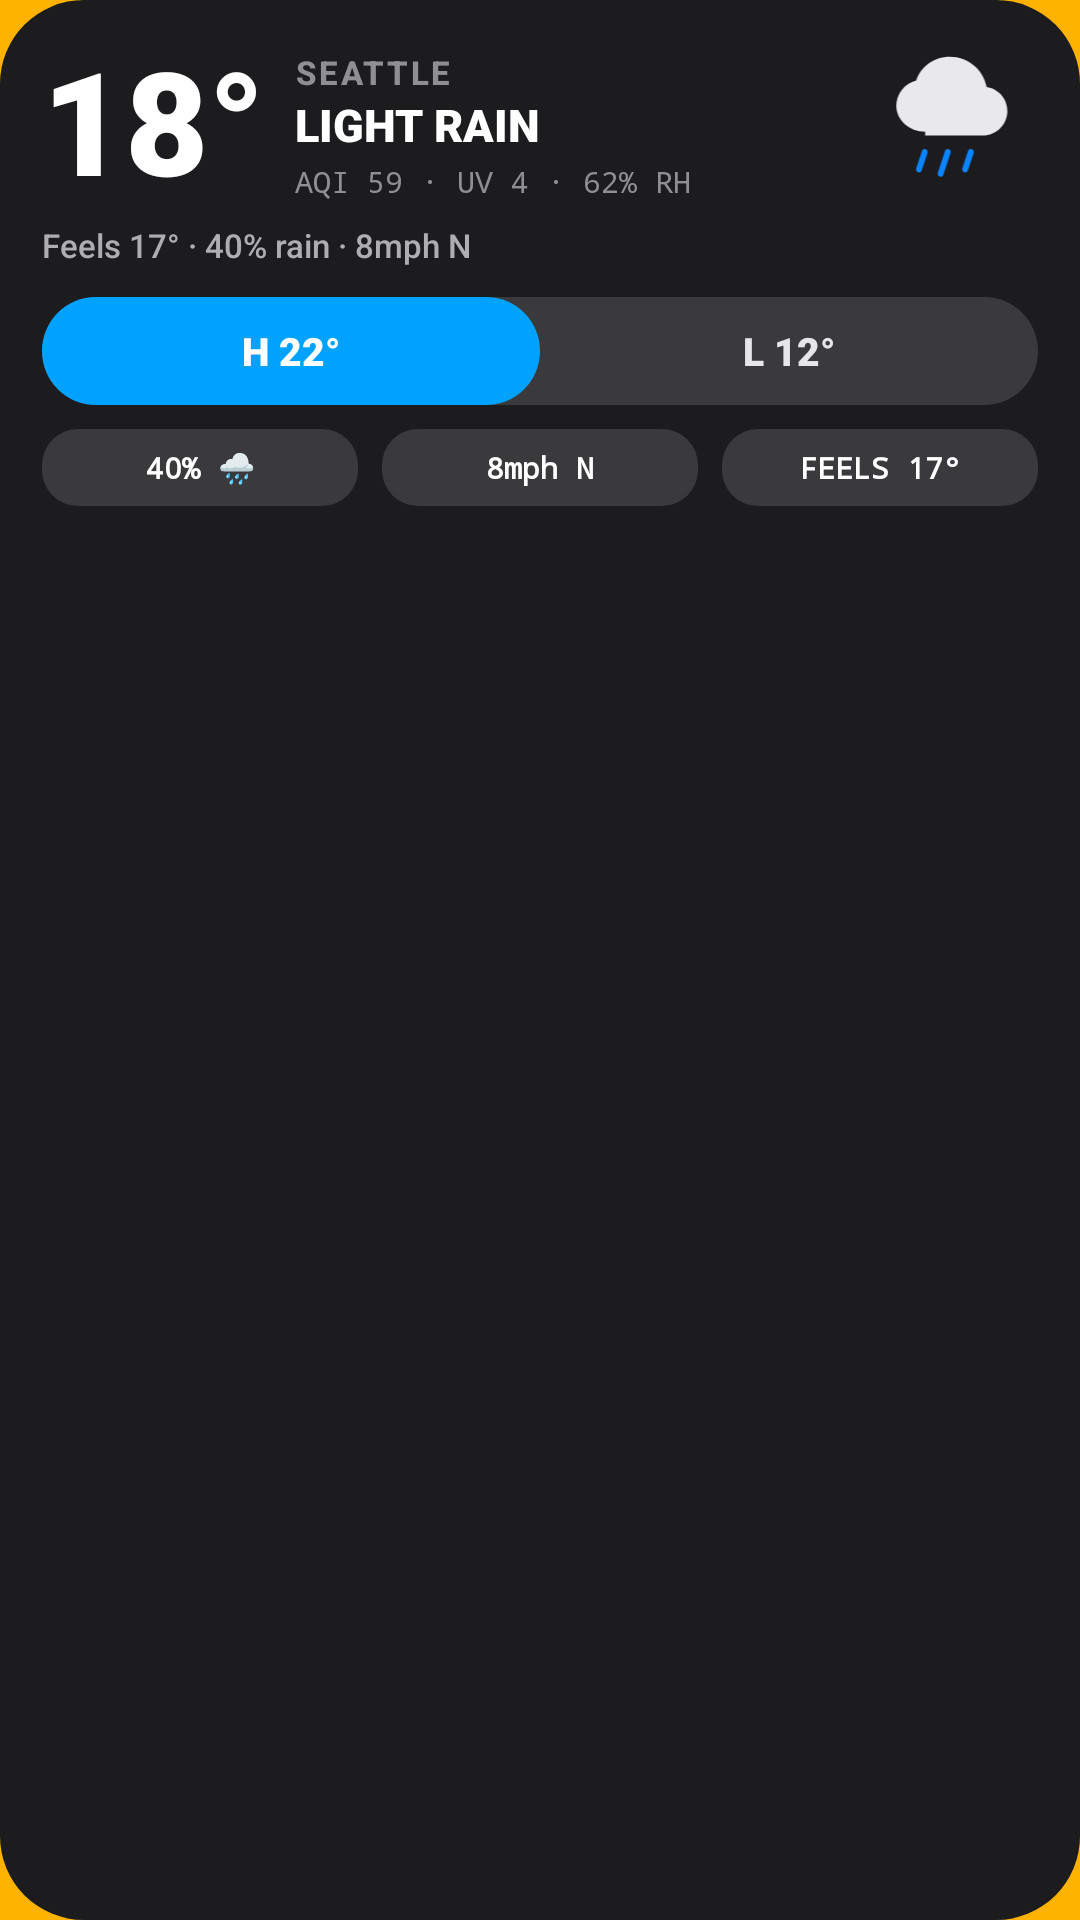

Where icons sit on this 1080×1920 app screen, as (x1, y1, x2, y2):
Weather icon: (896, 56, 1008, 177)
